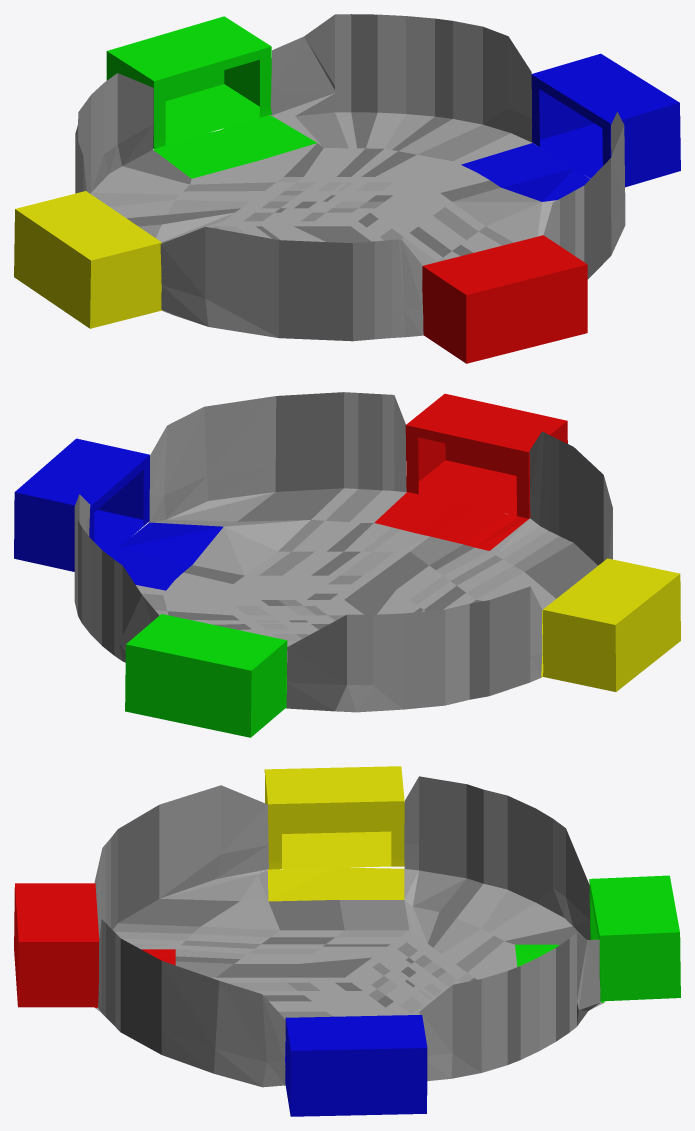
The model's file is PlayZone+Goals (2).fbx.
The picture shows the model from 3 angles, top to bottom: view 1: azimuth 30°, elevation 25°; view 2: azimuth 150°, elevation 25°; view 3: azimuth 270°, elevation 25°; orthographic projection. The views are drawn at different scales.
Visible parts, largest first — view 1: polySurface1, polySurface3, polySurface4, polySurface5, polySurface2; view 2: polySurface1, polySurface5, polySurface4, polySurface3, polySurface2; view 3: polySurface1, polySurface2, polySurface4, polySurface3, polySurface5.
Part boxes in pixels (x1=…): polySurface1: x1=75, y1=14, x2=625, y2=341; polySurface3: x1=422, y1=235, x2=587, y2=363; polySurface4: x1=14, y1=191, x2=161, y2=328; polySurface5: x1=106, y1=16, x2=271, y2=148; polySurface2: x1=531, y1=53, x2=680, y2=187; polySurface1: x1=74, y1=392, x2=612, y2=712; polySurface5: x1=125, y1=614, x2=287, y2=737; polySurface4: x1=542, y1=558, x2=680, y2=691; polySurface3: x1=405, y1=393, x2=567, y2=518; polySurface2: x1=14, y1=438, x2=149, y2=571; polySurface1: x1=94, y1=776, x2=604, y2=1087; polySurface2: x1=285, y1=1015, x2=427, y2=1116; polySurface4: x1=264, y1=766, x2=404, y2=869; polySurface3: x1=14, y1=883, x2=99, y2=1007; polySurface5: x1=589, y1=875, x2=680, y2=1001.
Size of the model in its own units: 122 by 19.82 by 120.
